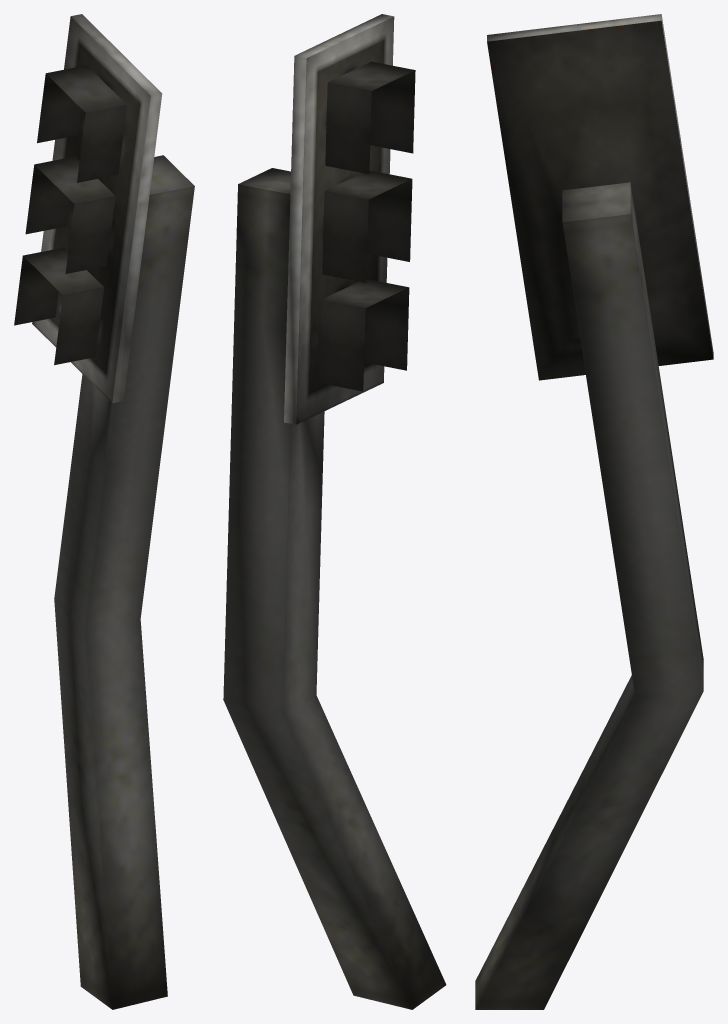
File: trafficlight1.fbx
The picture shows the model from 3 angles, left to right: view 1: azimuth 30°, elevation 25°; view 2: azimuth 150°, elevation 25°; view 3: azimuth 270°, elevation 25°; orthographic projection. The views are drawn at different scales.
Visible parts, largest first — view 1: trafficlight1; view 2: trafficlight1; view 3: trafficlight1.
Part boxes in pixels (x1,y1,x2,y2): trafficlight1: (14, 14, 194, 1009); trafficlight1: (223, 14, 446, 1009); trafficlight1: (475, 14, 713, 1009).
Bounding box in the file's own units: 58.17 × 83.27 × 382.
Materials: 1 (1 with a texture image).
